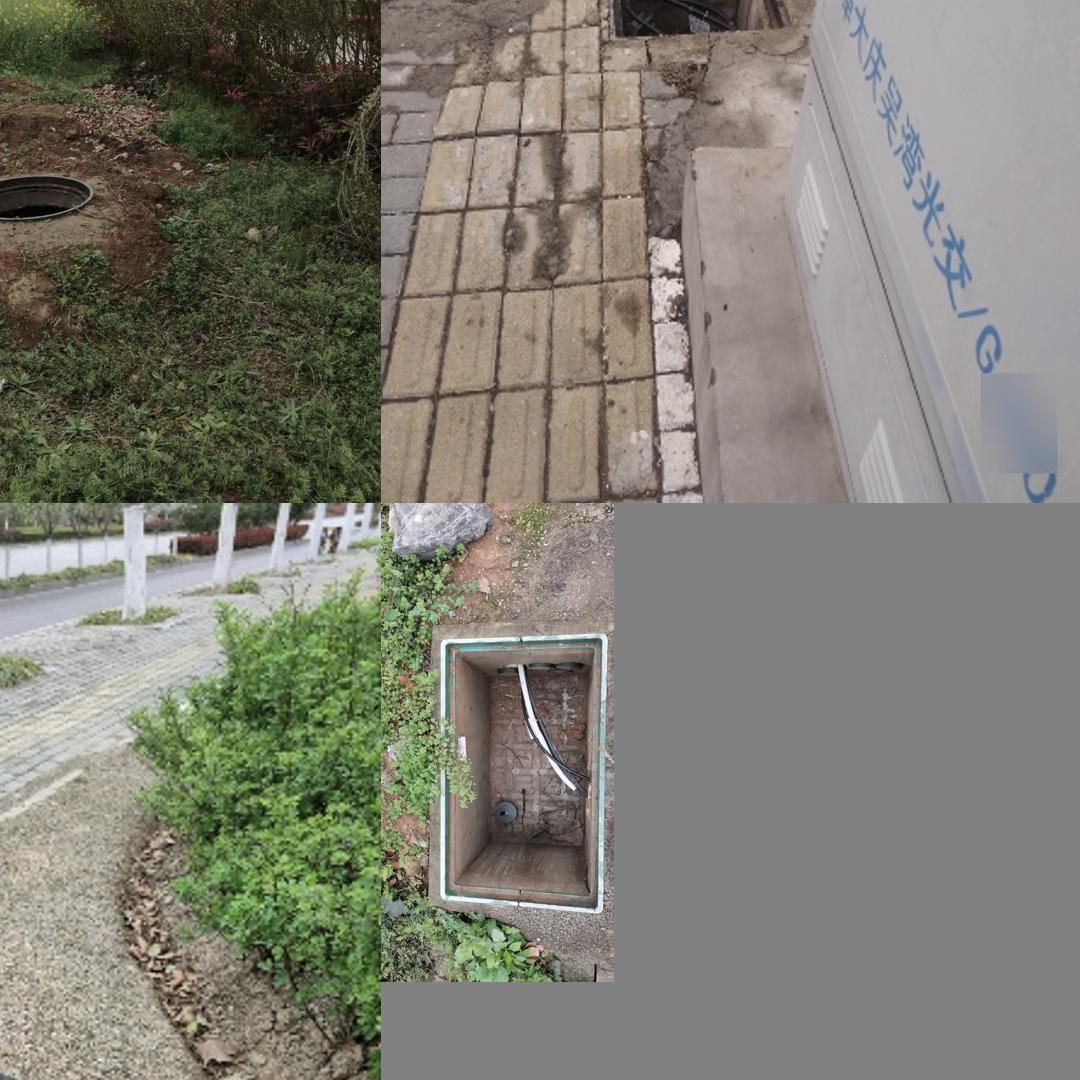lose: (440, 632, 608, 914), (0, 169, 108, 243), (599, 0, 791, 38), (0, 1061, 99, 1080)
